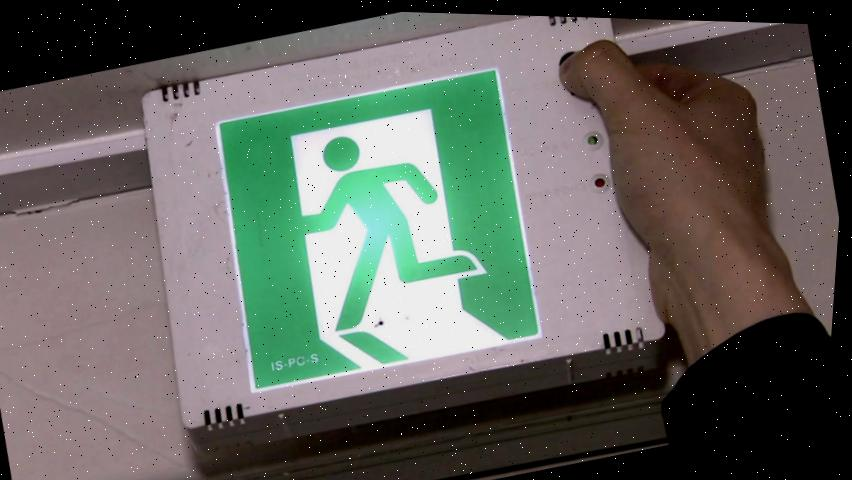emergency_exit: (137, 15, 838, 458), (214, 67, 544, 394)
